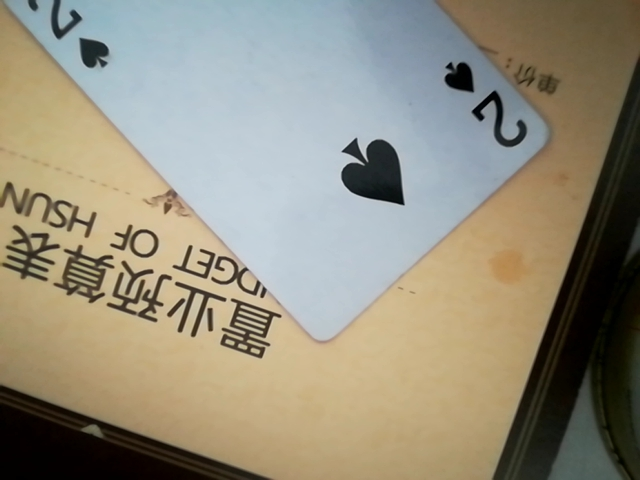ht 2: (5, 3, 562, 348)
